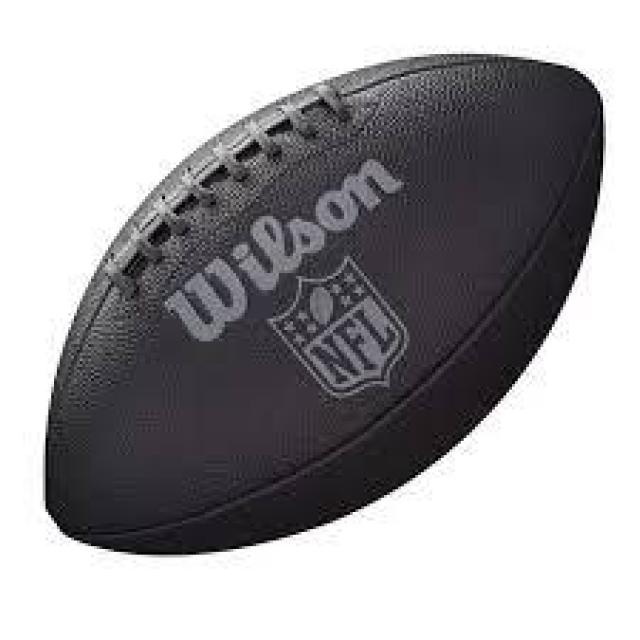ball: (37, 51, 616, 560)
